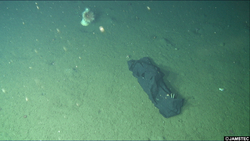plastic bag: (126, 54, 186, 119)
